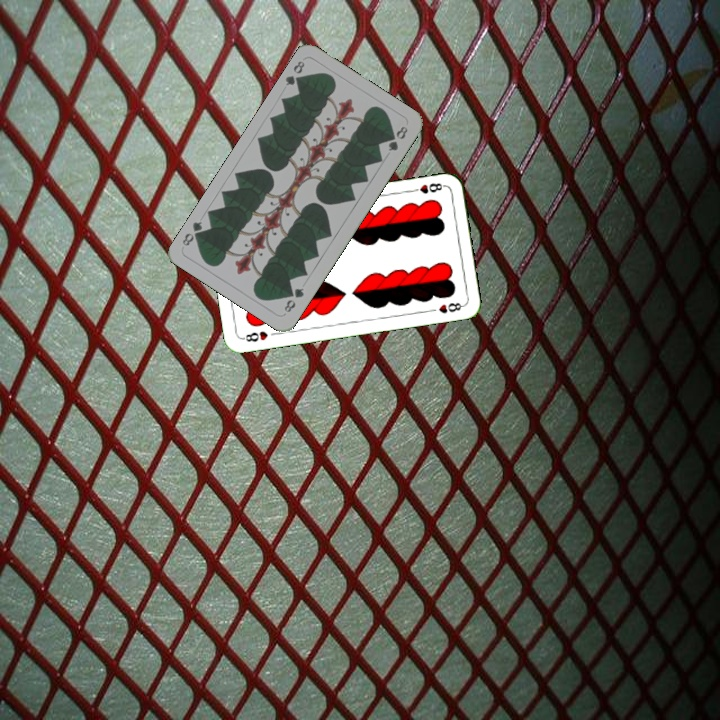G8: (281, 57, 307, 89), (280, 284, 306, 315)
H8: (407, 179, 447, 196), (239, 327, 271, 345)
